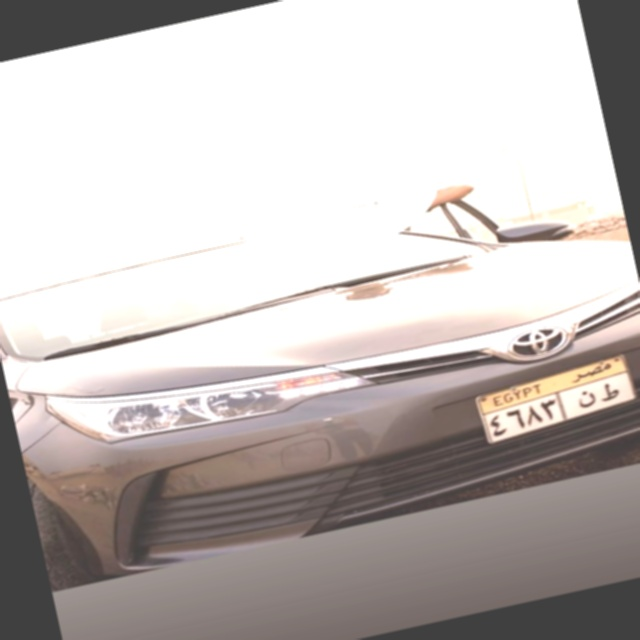License Plate: (467, 349, 640, 448)
